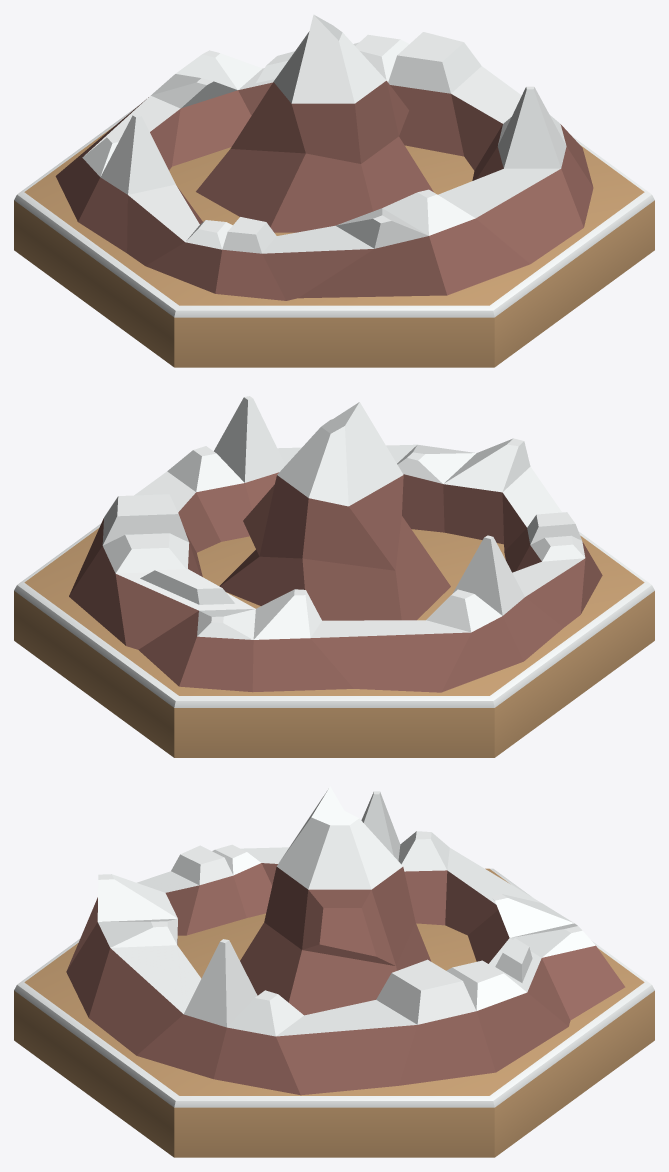
The model's file is Hex_Blocker.fbx.
3 renders of one model, top to bottom at view 1: azimuth 30°, elevation 25°; view 2: azimuth 150°, elevation 25°; view 3: azimuth 270°, elevation 25°, orthographic.
Visible parts, largest first — view 1: Tille.001; view 2: Tille.001; view 3: Tille.001.
Part boxes in pixels (x1=…): Tille.001: x1=14, y1=14, x2=654, y2=367; Tille.001: x1=14, y1=396, x2=654, y2=757; Tille.001: x1=14, y1=786, x2=654, y2=1157.
Bounding box in the file's own units: 173 × 83.64 × 200.
